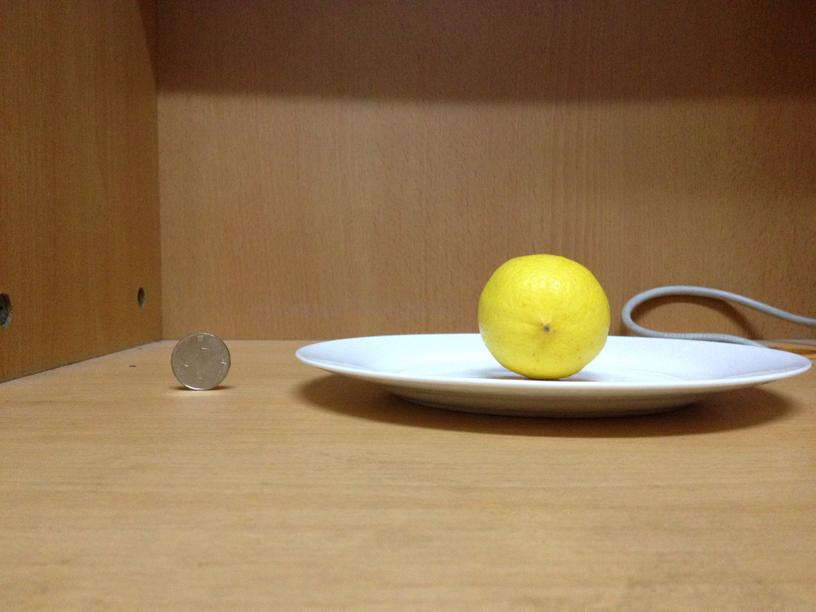coin: (168, 333, 231, 391)
lemon: (478, 251, 608, 376)
